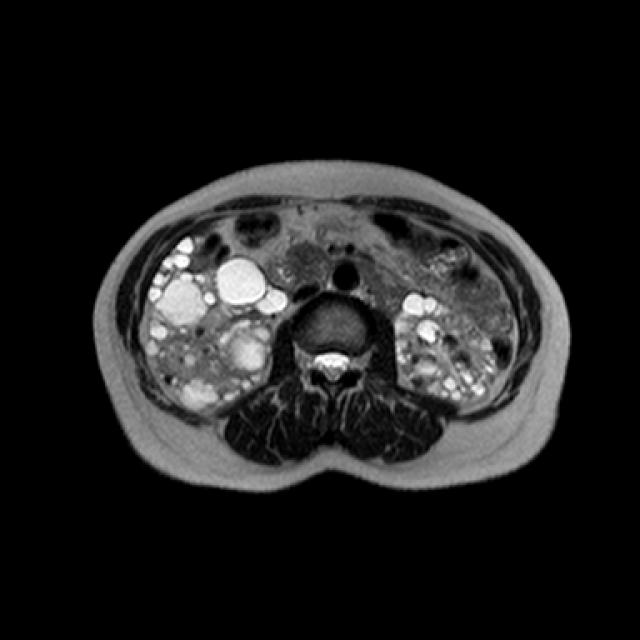sag: (145, 256, 290, 410)
sol: (392, 290, 500, 409)
